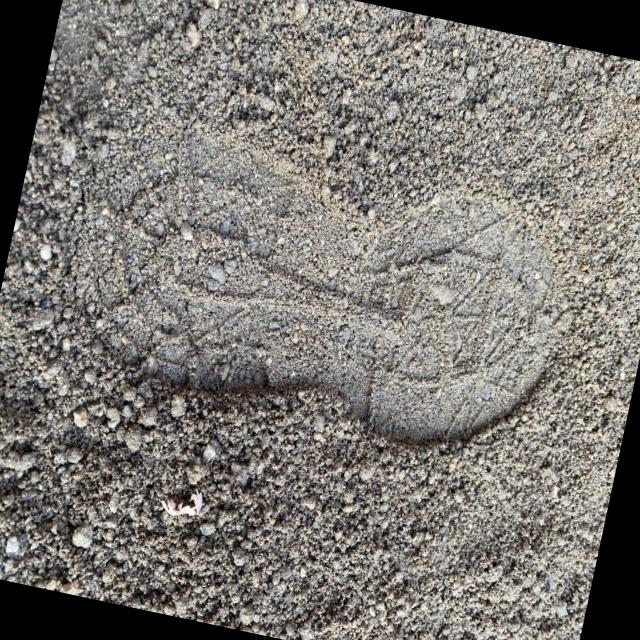human_footprint: (46, 102, 606, 467)
